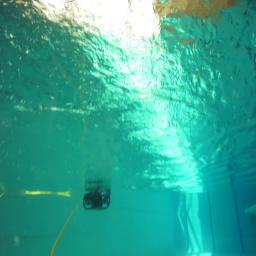Full: (84, 190, 110, 210)
Side: (83, 191, 111, 210)
